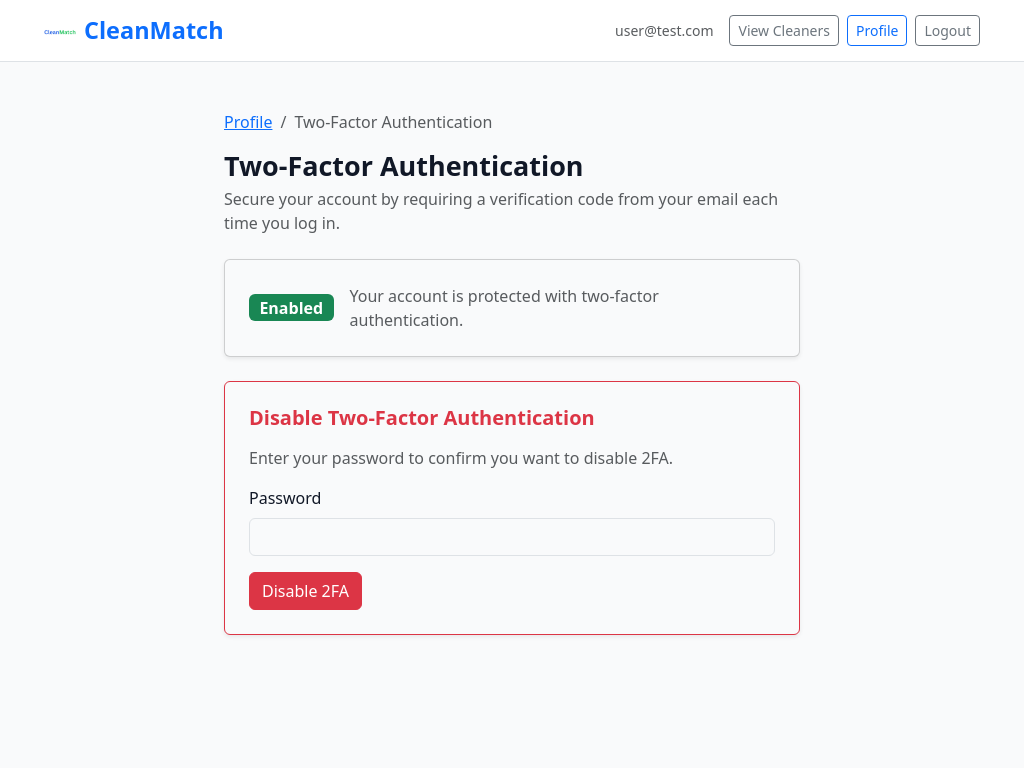
Scenario: TwoFactorSetupPage › disable2FA failure shows error alert
Expected: the button "Disable 2FA" is shown, x1=249 y1=572 x2=362 y2=610
Type "wrong" into the password field at (512, 536), box x1=249 y1=518 x2=775 y2=556
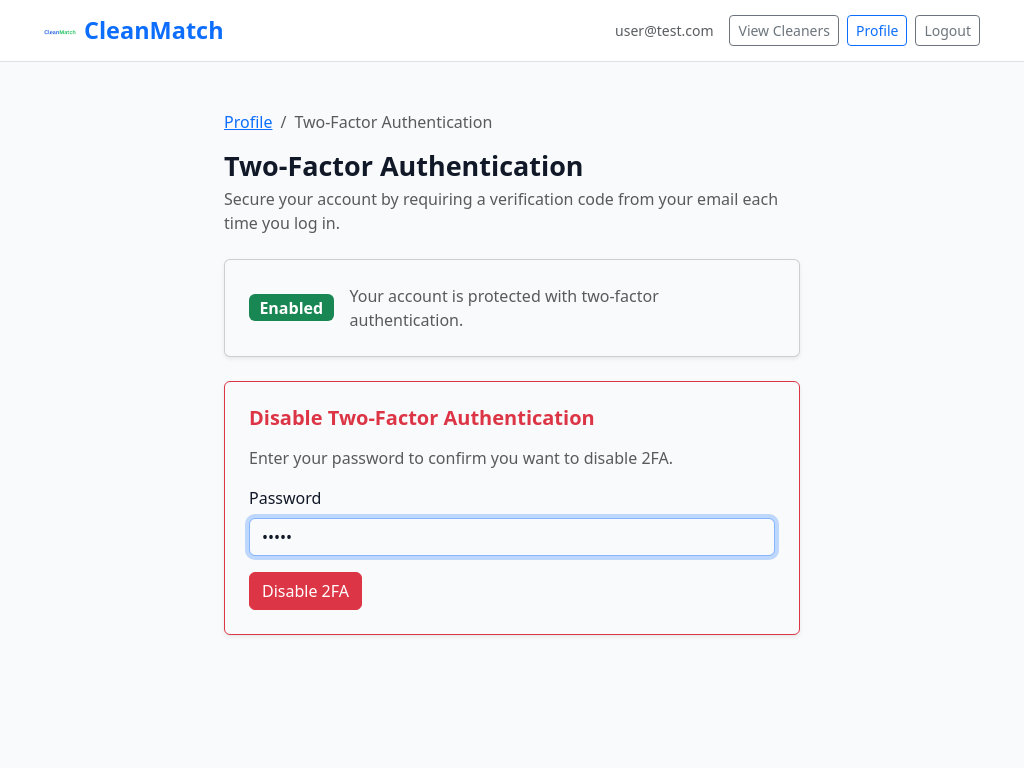
Click the button "Disable 2FA" at (306, 590), box x1=249 y1=572 x2=362 y2=610
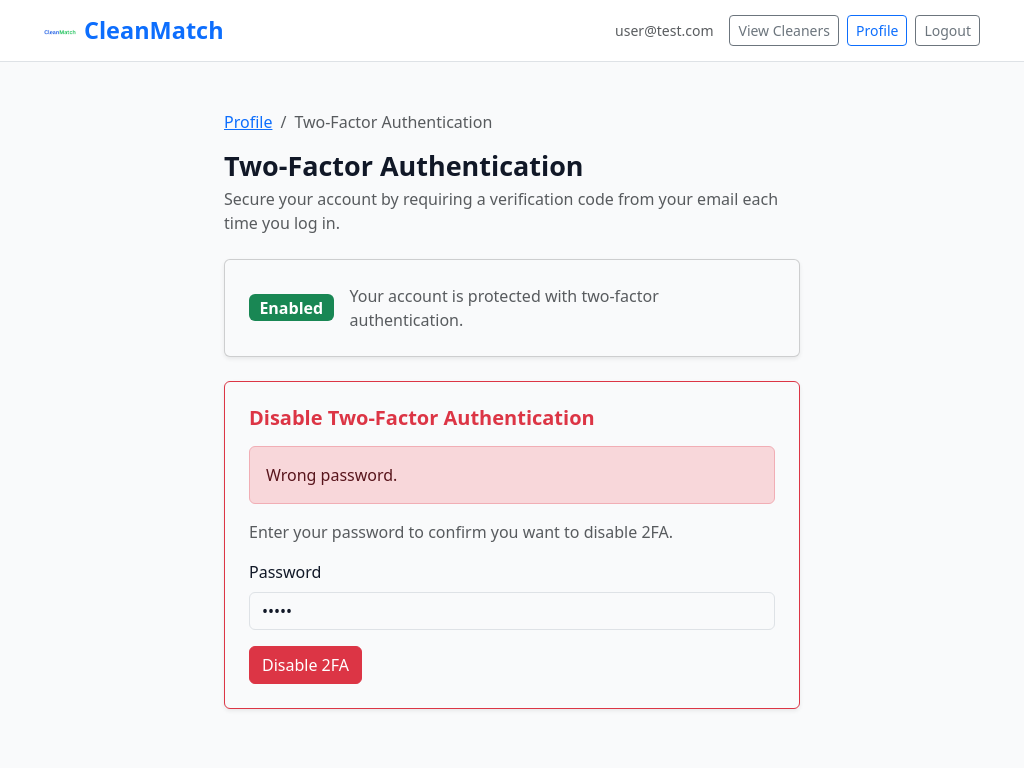
Now the text "Wrong password." is shown, box x1=249 y1=446 x2=775 y2=504
